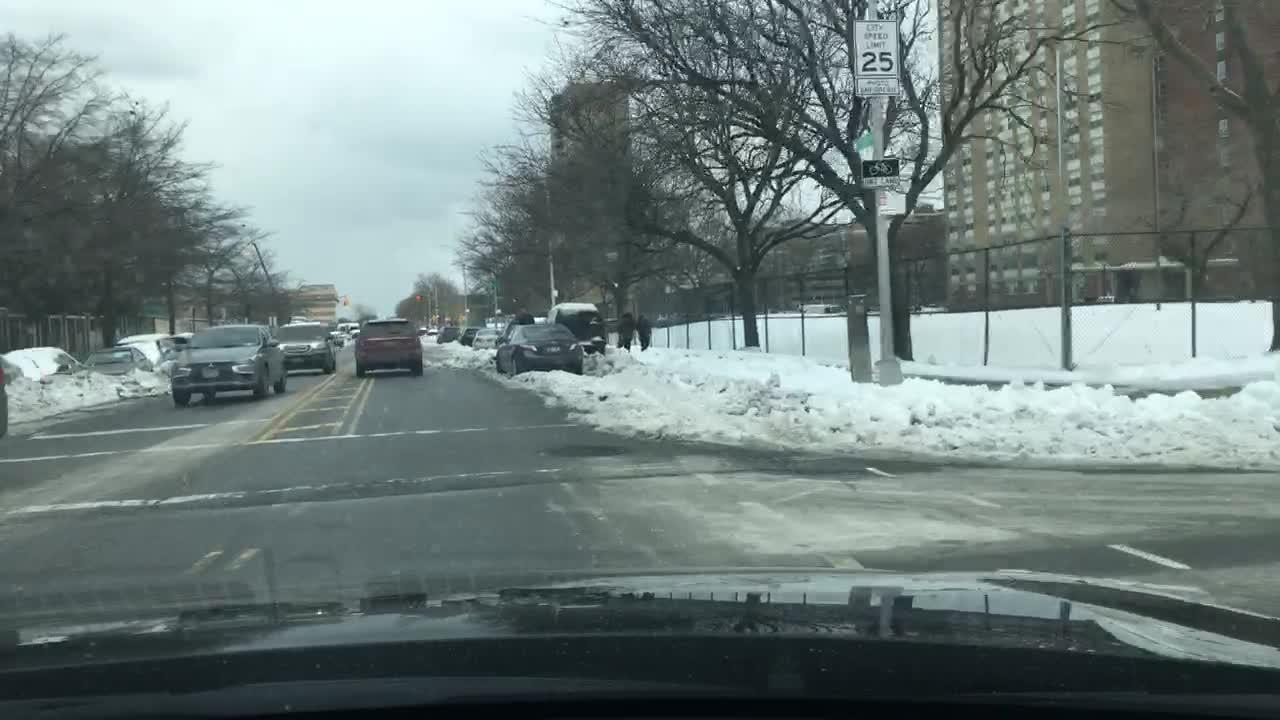Mitsubishi: (204, 357, 218, 372)
